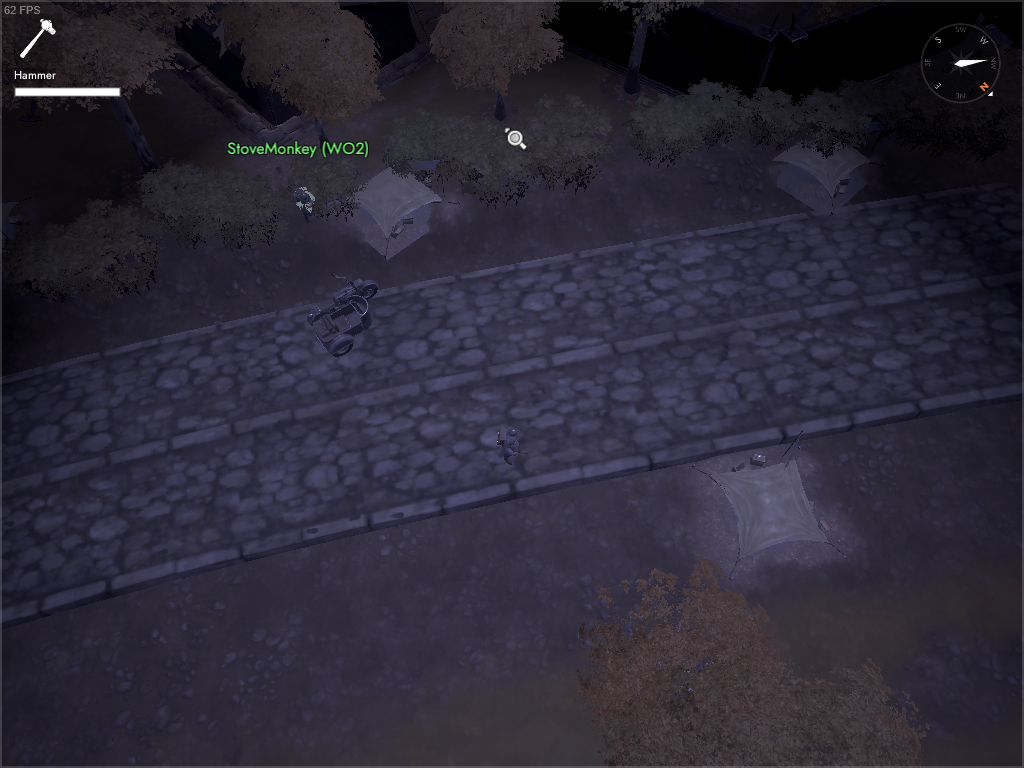fortified_wall: (760, 1, 988, 112), (578, 1, 781, 102)
foxhole: (689, 427, 855, 587), (325, 152, 471, 264), (758, 114, 895, 224)
motorcycle: (302, 271, 381, 357)
player: (494, 425, 527, 467), (292, 183, 319, 226)
